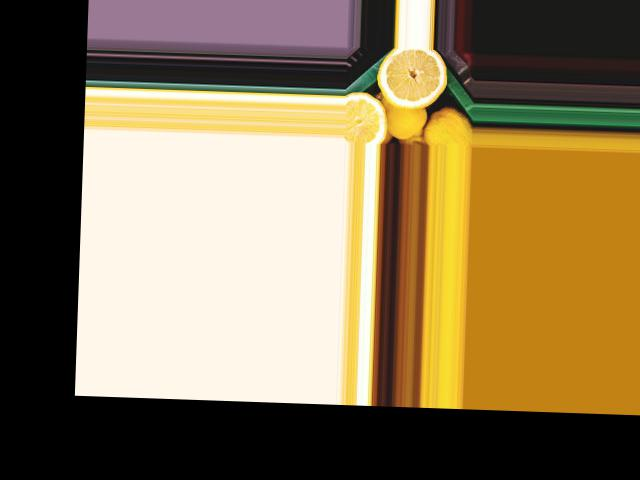lemon: (378, 96, 426, 141)
